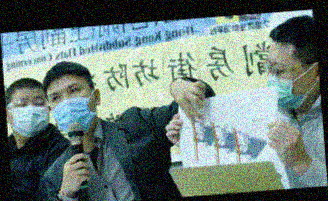with_mask: (264, 55, 315, 111), (46, 81, 96, 137), (6, 93, 51, 139)
